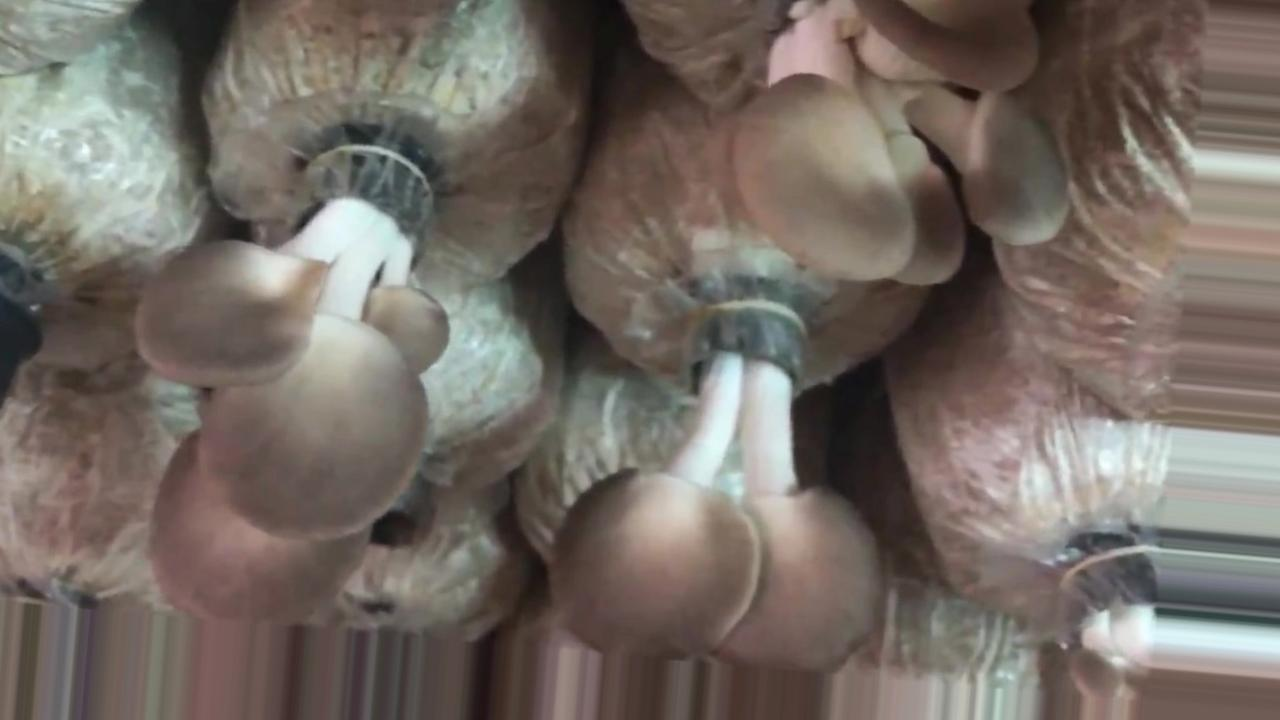nam: (138, 146, 445, 624), (549, 292, 882, 670), (734, 1, 1063, 282)
